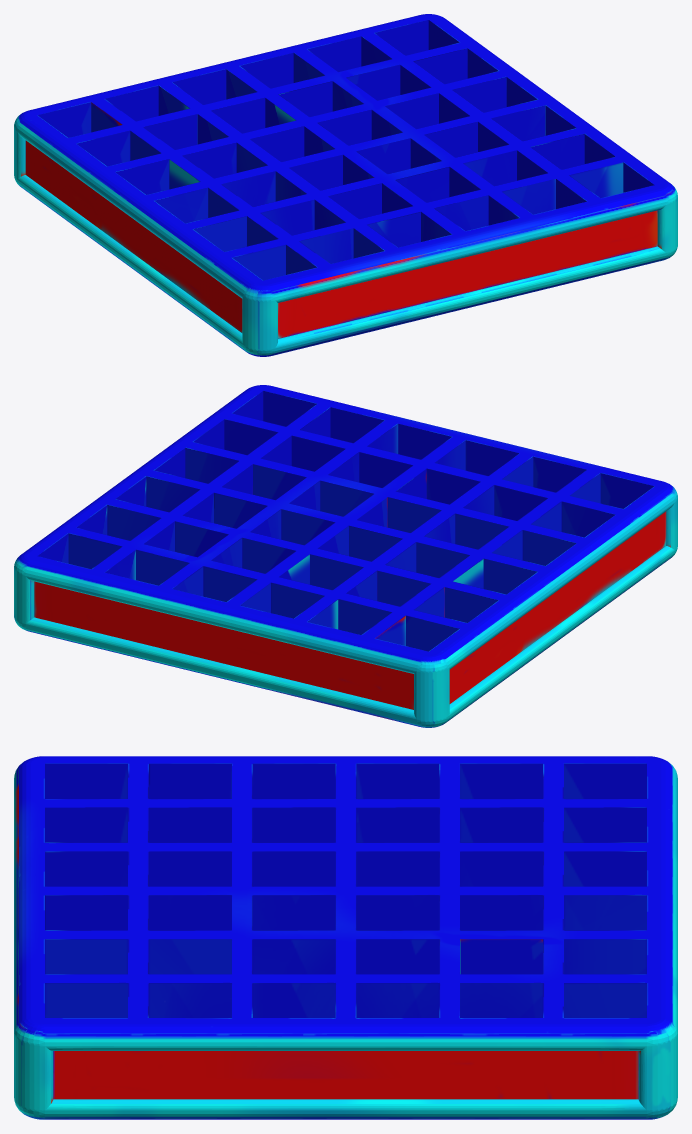
File: 6x6 Bomb Case.fbx
3 renders of one model, top to bottom at view 1: azimuth 30°, elevation 25°; view 2: azimuth 150°, elevation 25°; view 3: azimuth 270°, elevation 25°, orthographic. The views are drawn at different scales.
Visible parts, largest first — view 1: MeshBody1.002; view 2: MeshBody1.002; view 3: MeshBody1.002.
Boxes of the visible parts, x1,y1,x2,y2 form: MeshBody1.002: (14, 14, 677, 356); MeshBody1.002: (14, 385, 677, 727); MeshBody1.002: (14, 756, 677, 1119).
Bounding box in the file's own units: 1.6 × 0.25 × 1.6.
